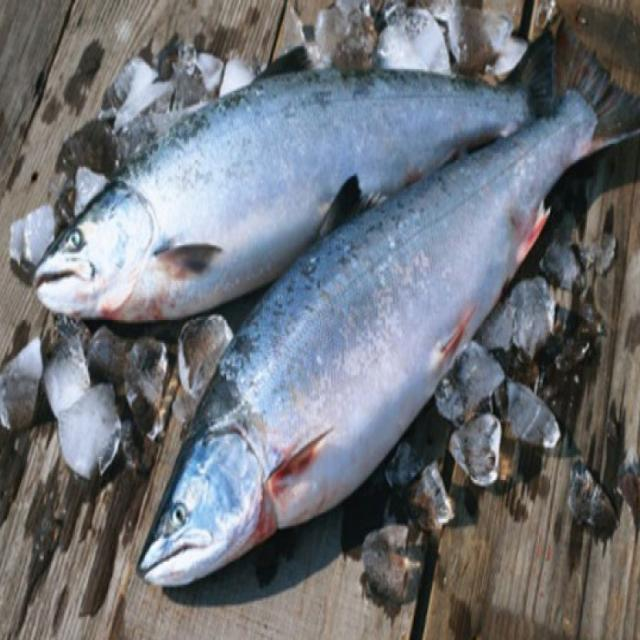salmon: (135, 22, 640, 597), (28, 38, 592, 322)
